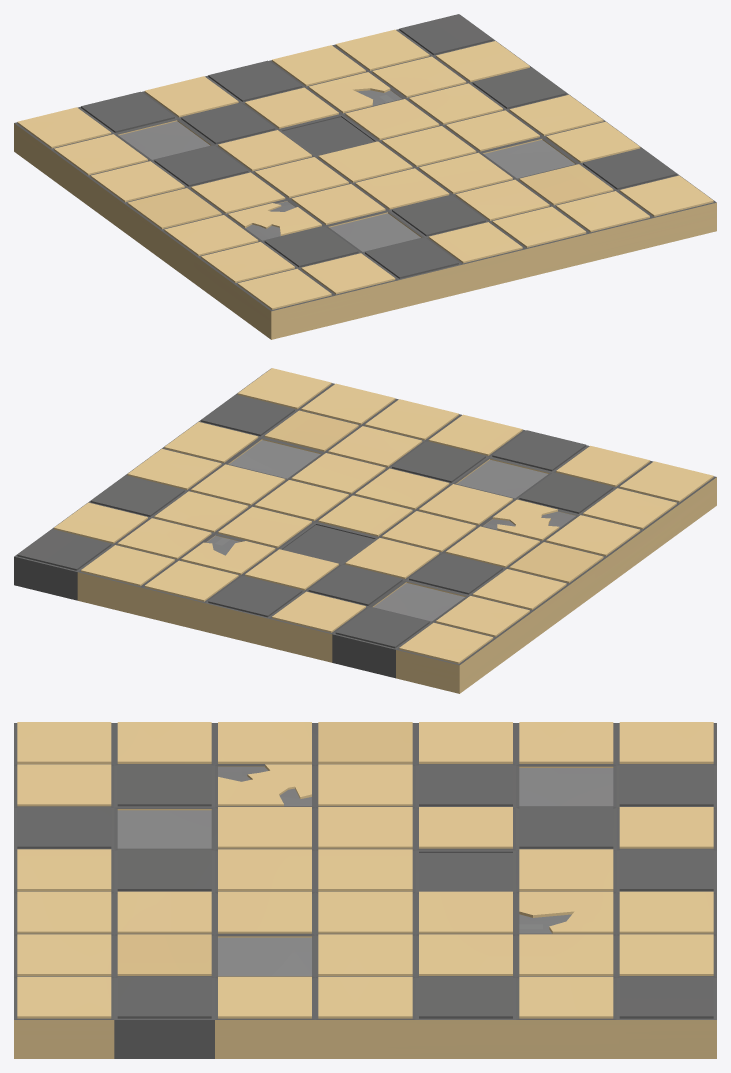
File: floor_tile_2.glb
3 views of the same model, one above another, from view 1: azimuth 30°, elevation 25°; view 2: azimuth 150°, elevation 25°; view 3: azimuth 270°, elevation 25° (orthographic). The views are drawn at different scales.
Parts seen in each view (by area): view 1: floor_tile_2; view 2: floor_tile_2; view 3: floor_tile_2.
Part boxes in pixels (bbox=[...]): floor_tile_2: bbox=[14, 14, 716, 339]; floor_tile_2: bbox=[14, 368, 716, 693]; floor_tile_2: bbox=[14, 722, 716, 1058].
Size of the model in its own units: 1.82 by 0.1179 by 1.82.
Materials: 1 (1 with a texture image).
